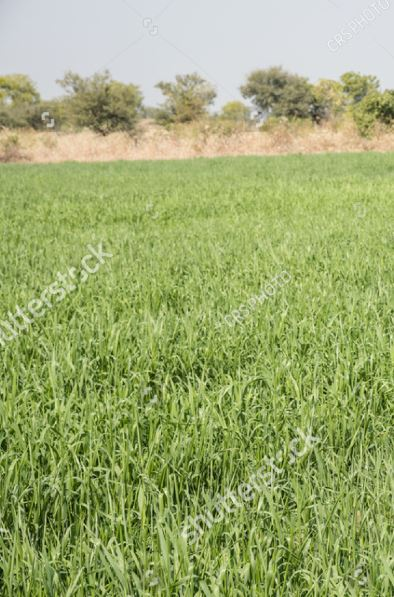Wheat: (15, 355, 378, 583)
